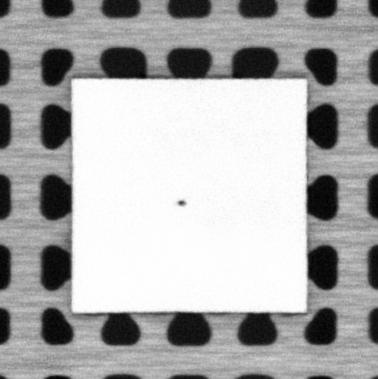DIE_INK: (175, 197, 188, 208)
